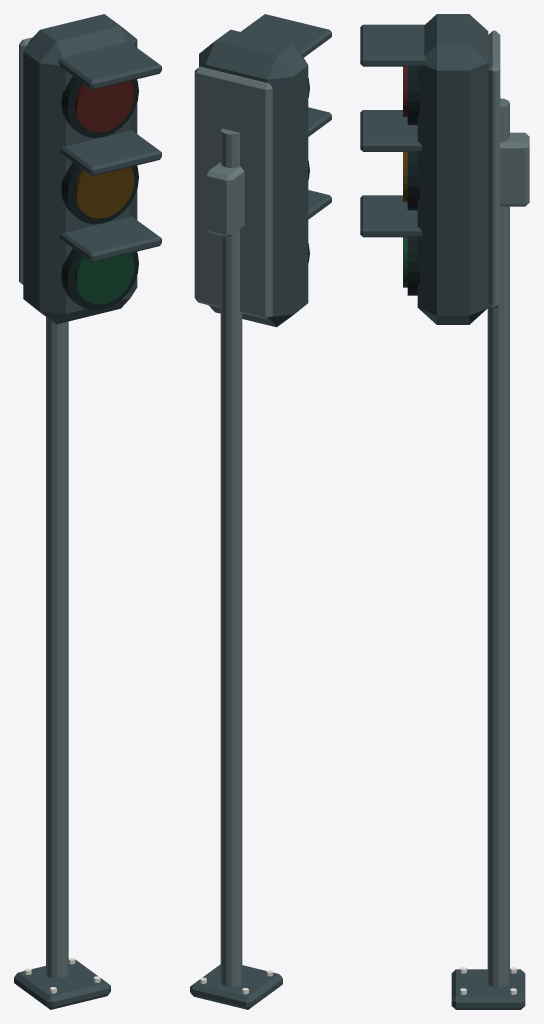
Rendered from signal_pole_3light.glb.
3 renders of one model, left to right at view 1: azimuth 30°, elevation 25°; view 2: azimuth 150°, elevation 25°; view 3: azimuth 270°, elevation 25°, orthographic. The views are drawn at different scales.
Parts seen in each view (by area): view 1: signal_pole_3light__head_housing, signal_pole_3light__post, signal_pole_3light__head_visor_red, signal_pole_3light__head_visor_green, signal_pole_3light__head_visor_amber, signal_pole_3light__base_plate, signal_pole_3light__lens_red, signal_pole_3light__lens_amber, signal_pole_3light__lens_green, signal_pole_3light__head_rear_seam, signal_pole_3light__head_lens_rim_amber, signal_pole_3light__head_lens_rim_green (+1 smaller); view 2: signal_pole_3light__post, signal_pole_3light__head_rear_seam, signal_pole_3light__head_housing, signal_pole_3light__head_mount, signal_pole_3light__base_plate, signal_pole_3light__head_visor_red, signal_pole_3light__head_visor_amber, signal_pole_3light__head_visor_green; view 3: signal_pole_3light__head_housing, signal_pole_3light__post, signal_pole_3light__head_rear_seam, signal_pole_3light__head_visor_red, signal_pole_3light__base_plate, signal_pole_3light__head_visor_green, signal_pole_3light__head_visor_amber, signal_pole_3light__head_mount, signal_pole_3light__head_lens_rim_green, signal_pole_3light__head_lens_rim_red, signal_pole_3light__head_lens_rim_amber.
Boxes of the visible parts, bbox=[...] form: signal_pole_3light__head_housing: bbox=[23, 14, 137, 324]; signal_pole_3light__post: bbox=[46, 317, 68, 978]; signal_pole_3light__head_visor_red: bbox=[58, 41, 161, 89]; signal_pole_3light__head_visor_green: bbox=[60, 216, 161, 262]; signal_pole_3light__head_visor_amber: bbox=[60, 130, 161, 176]; signal_pole_3light__base_plate: bbox=[14, 959, 110, 1009]; signal_pole_3light__lens_red: bbox=[74, 81, 134, 132]; signal_pole_3light__lens_amber: bbox=[74, 167, 134, 218]; signal_pole_3light__lens_green: bbox=[74, 253, 134, 304]; signal_pole_3light__head_rear_seam: bbox=[19, 37, 32, 284]; signal_pole_3light__head_lens_rim_amber: bbox=[61, 162, 138, 224]; signal_pole_3light__head_lens_rim_green: bbox=[61, 248, 138, 310]; signal_pole_3light__post: bbox=[220, 128, 242, 987]; signal_pole_3light__head_rear_seam: bbox=[194, 66, 272, 319]; signal_pole_3light__head_housing: bbox=[199, 29, 308, 327]; signal_pole_3light__head_mount: bbox=[205, 162, 244, 237]; signal_pole_3light__base_plate: bbox=[190, 964, 282, 1009]; signal_pole_3light__head_visor_red: bbox=[241, 14, 331, 57]; signal_pole_3light__head_visor_amber: bbox=[308, 107, 331, 136]; signal_pole_3light__head_visor_green: bbox=[308, 190, 331, 219]; signal_pole_3light__head_housing: bbox=[417, 14, 488, 324]; signal_pole_3light__post: bbox=[487, 98, 509, 987]; signal_pole_3light__head_rear_seam: bbox=[488, 30, 500, 308]; signal_pole_3light__head_visor_red: bbox=[360, 24, 425, 66]; signal_pole_3light__base_plate: bbox=[451, 969, 525, 1009]; signal_pole_3light__head_visor_green: bbox=[360, 195, 422, 237]; signal_pole_3light__head_visor_amber: bbox=[360, 110, 422, 151]; signal_pole_3light__head_mount: bbox=[500, 132, 529, 206]; signal_pole_3light__head_lens_rim_green: bbox=[407, 237, 419, 295]; signal_pole_3light__head_lens_rim_red: bbox=[407, 66, 419, 124]; signal_pole_3light__head_lens_rim_amber: bbox=[407, 152, 419, 210].
Size of the model in its own units: 0.38 by 3.62 by 0.575.
